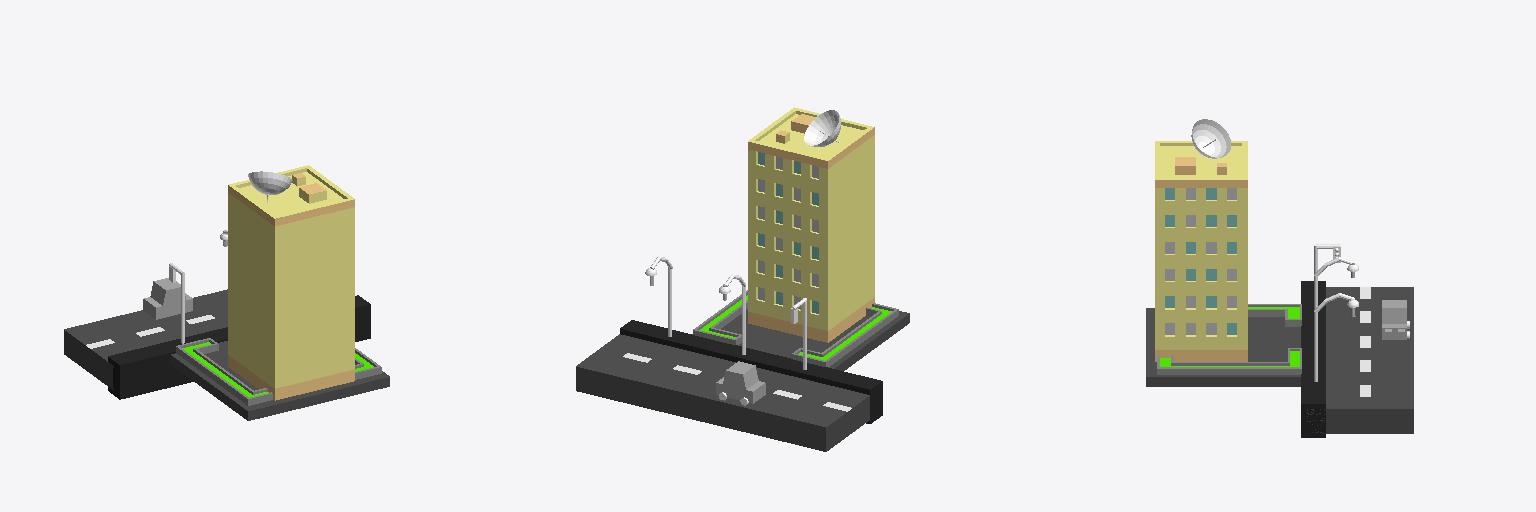
The model's file is apartment.obj.
3 views of the same model, side by side, from view 1: azimuth 30°, elevation 25°; view 2: azimuth 150°, elevation 25°; view 3: azimuth 270°, elevation 25° (orthographic).
Parts seen in each view (by area): view 1: Cube, Cube.4, Cube.5, Cube.1, Cube.3, Sphere, Cube.8, Cube.7, Cube.2; view 2: Cube, Cube.4, Cube.5, Cube.1, Cube.3, Cube.2, Sphere, Cube.8, Cube.7; view 3: Cube, Cube.4, Cube.1, Cube.5, Cube.2, Sphere, Cube.3, Cube.8.
Boxes of the visible parts, <box> form: Cube: <box>228,165,354,400</box>; Cube.4: <box>64,289,227,389</box>; Cube.5: <box>108,295,370,399</box>; Cube.1: <box>170,341,389,420</box>; Cube.3: <box>176,338,272,405</box>; Sphere: <box>248,171,292,194</box>; Cube.8: <box>150,278,186,306</box>; Cube.7: <box>143,293,192,319</box>; Cube.2: <box>355,348,381,379</box>; Cube: <box>748,107,874,342</box>; Cube.4: <box>576,334,869,451</box>; Cube.5: <box>620,320,882,423</box>; Cube.1: <box>692,309,909,370</box>; Cube.3: <box>791,303,898,366</box>; Cube.2: <box>693,290,747,344</box>; Sphere: <box>804,110,840,146</box>; Cube.8: <box>723,361,758,389</box>; Cube.7: <box>716,377,765,403</box>; Cube: <box>1155,141,1247,361</box>; Cube.4: <box>1307,287,1413,433</box>; Cube.1: <box>1146,308,1300,386</box>; Cube.5: <box>1301,281,1325,437</box>; Cube.2: <box>1157,348,1301,374</box>; Sphere: <box>1191,119,1230,158</box>; Cube.3: <box>1248,304,1301,326</box>; Cube.8: <box>1382,300,1406,323</box>.
Bounding box in the file's own units: 621 × 573 × 576.